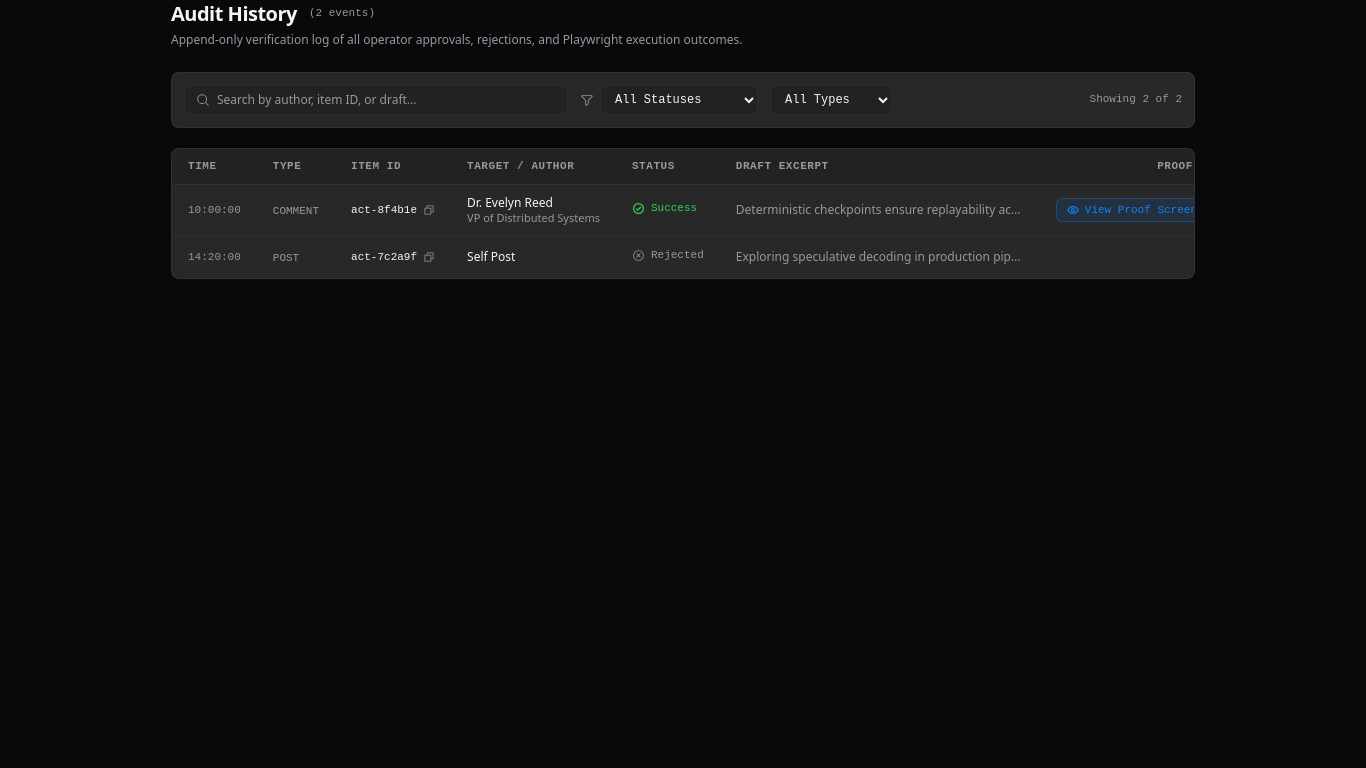
Test: AuditHistoryView & R2 Media Vault › AuditHistoryView rendering and interactive modal › opens interactive screenshot preview modal when clicking View Proof Screenshot
Step 1. Click the button with test id "view-proof-btn-hist-001" → (1145, 210), box x1=1056 y1=198 x2=1234 y2=222
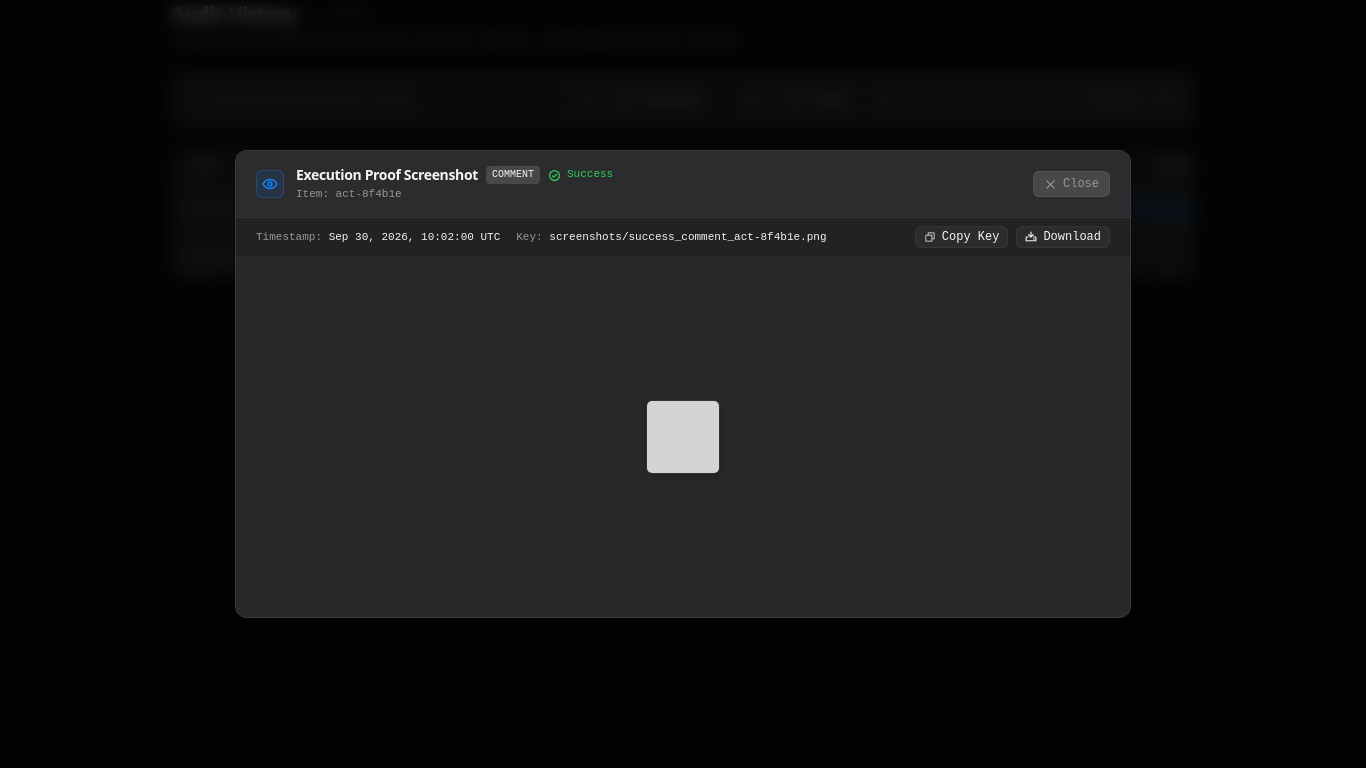
Check: the element with test id "screenshot-preview-modal" is shown
Check: the heading "Execution Proof Screenshot" is shown, box x1=296 y1=165 x2=478 y2=185
Check: the text "Item: act-8f4b1e" is shown, box x1=296 y1=188 x2=402 y2=200
Note: Close modal
Step 2. Click the button with test id "close-screenshot-modal-btn" → (1072, 184), box x1=1033 y1=171 x2=1110 y2=197
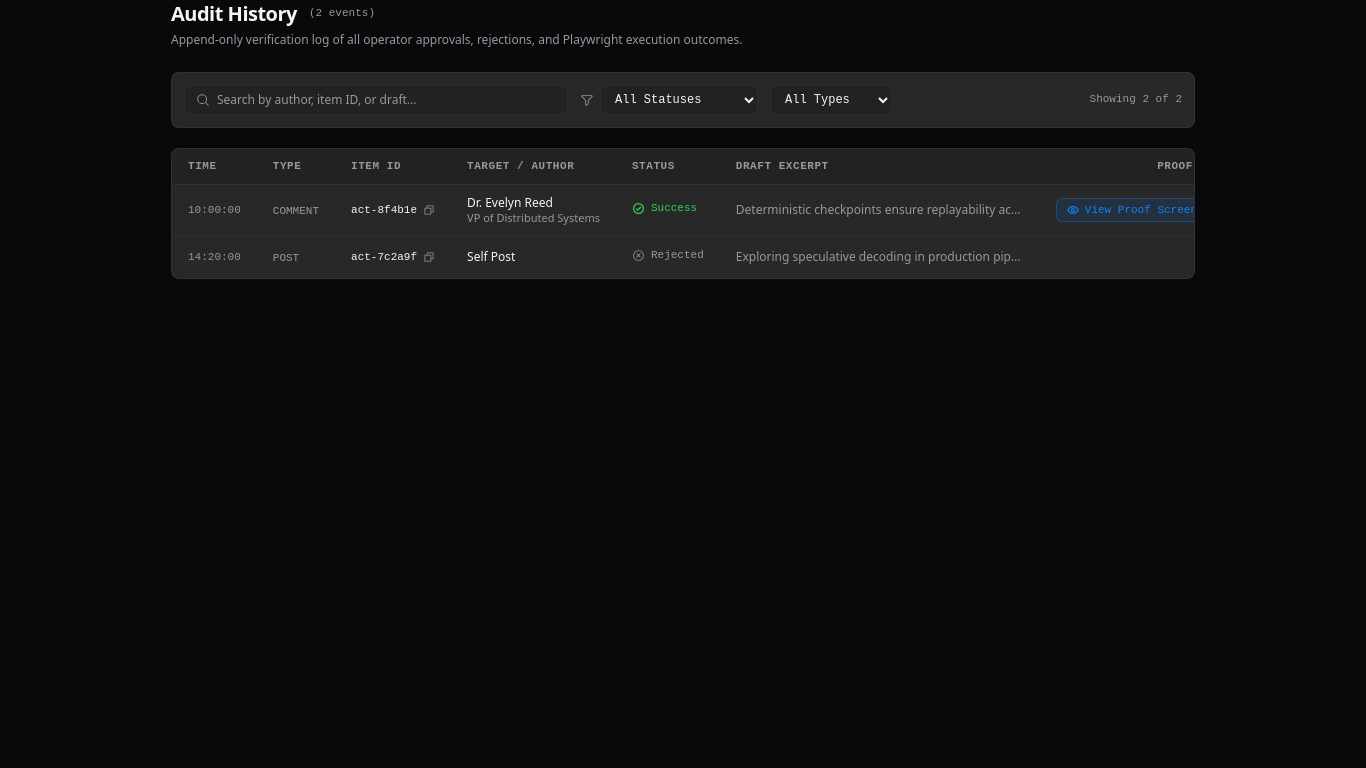
Check: the element with test id "screenshot-preview-modal" is gone
